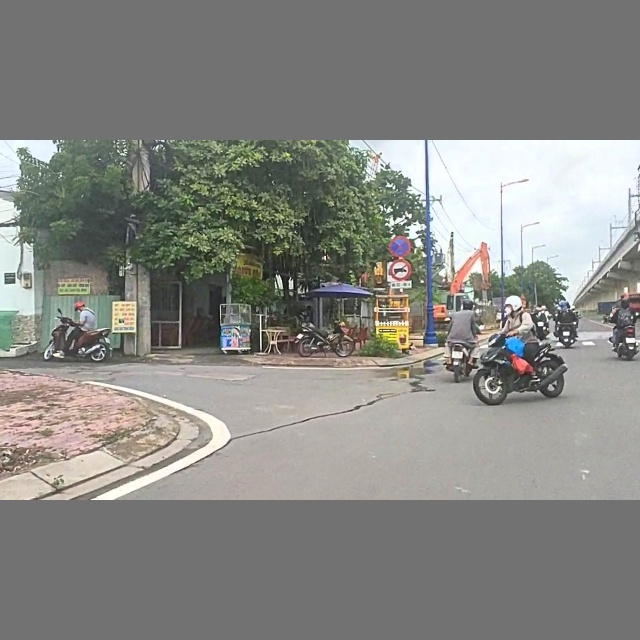B.8a: (388, 259, 412, 280)
P.130: (388, 235, 411, 257)
